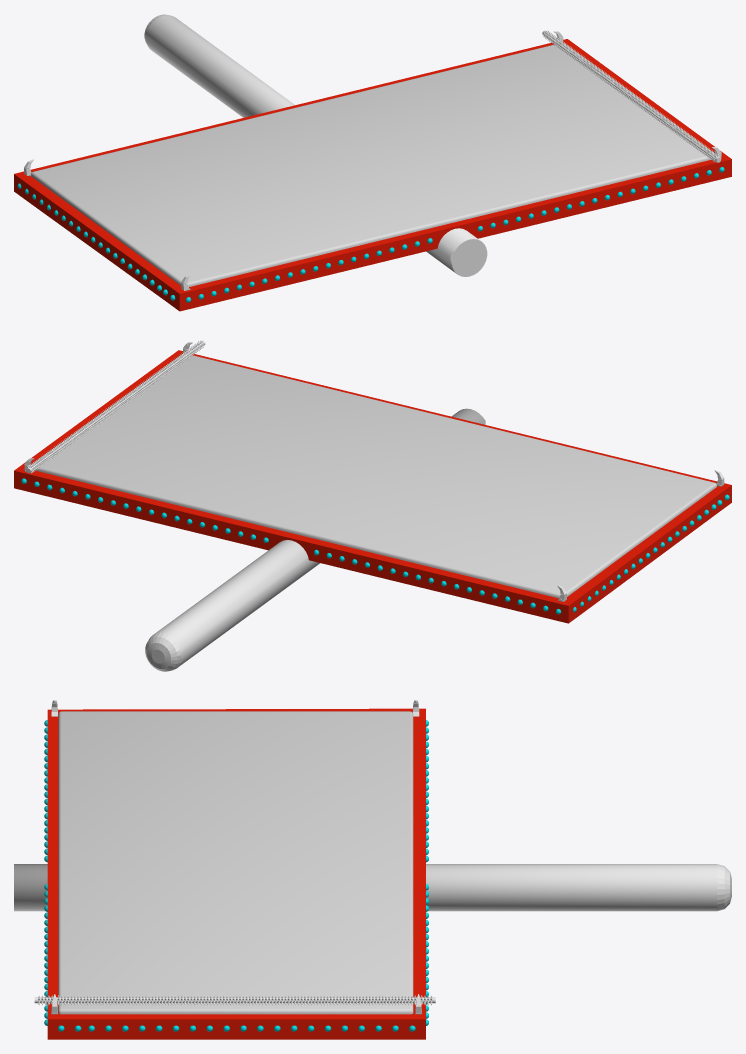
Rendered from WippeBerg.fbx.
3 views of the same model, one above another, from view 1: azimuth 30°, elevation 25°; view 2: azimuth 150°, elevation 25°; view 3: azimuth 270°, elevation 25° (orthographic). The views are drawn at different scales.
Visible parts, largest first — view 1: Icosphere, Cylinder, Cone, Cylinder.001; view 2: Icosphere, Cylinder, Cone, Cylinder.001; view 3: Icosphere, Cylinder, Cone, Cylinder.001.
Boxes of the visible parts, bbox=[...] form: Icosphere: bbox=[14, 39, 731, 311]; Cylinder: bbox=[144, 14, 487, 276]; Cone: bbox=[542, 30, 720, 162]; Cylinder.001: bbox=[542, 30, 720, 162]; Icosphere: bbox=[14, 350, 731, 623]; Cylinder: bbox=[145, 408, 485, 671]; Cone: bbox=[26, 340, 204, 473]; Cylinder.001: bbox=[26, 340, 205, 473]; Icosphere: bbox=[44, 708, 428, 1039]; Cylinder: bbox=[14, 864, 731, 911]; Cone: bbox=[38, 995, 432, 1005]; Cylinder.001: bbox=[34, 997, 435, 1003].
Bounding box in the file's own units: 21938 × 1996 × 21265.
